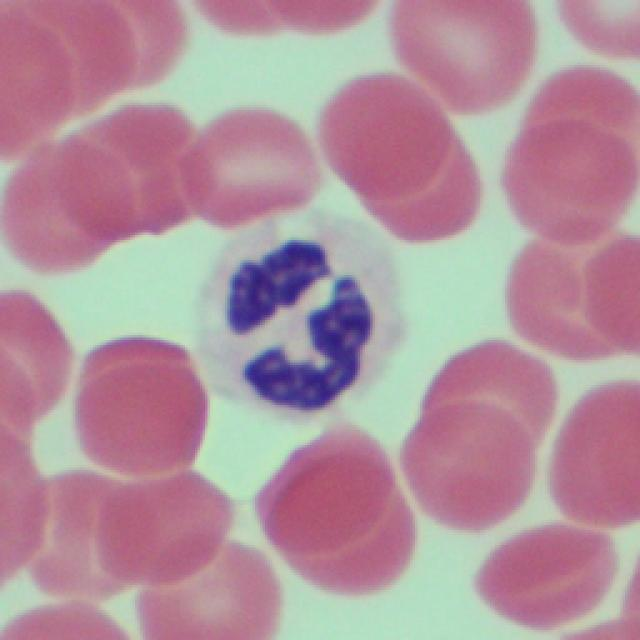RBC: (394, 331, 544, 535), (321, 70, 480, 244), (254, 422, 408, 596), (502, 55, 639, 246), (66, 328, 212, 500), (178, 74, 322, 235), (60, 96, 206, 237), (396, 2, 534, 123), (473, 523, 610, 634), (0, 147, 112, 280), (101, 474, 227, 591), (548, 374, 640, 533), (17, 470, 137, 590), (128, 547, 282, 639), (0, 0, 80, 145), (0, 302, 70, 425), (42, 0, 132, 95), (0, 437, 50, 574), (552, 0, 639, 62)
WBC: (224, 227, 370, 443)
